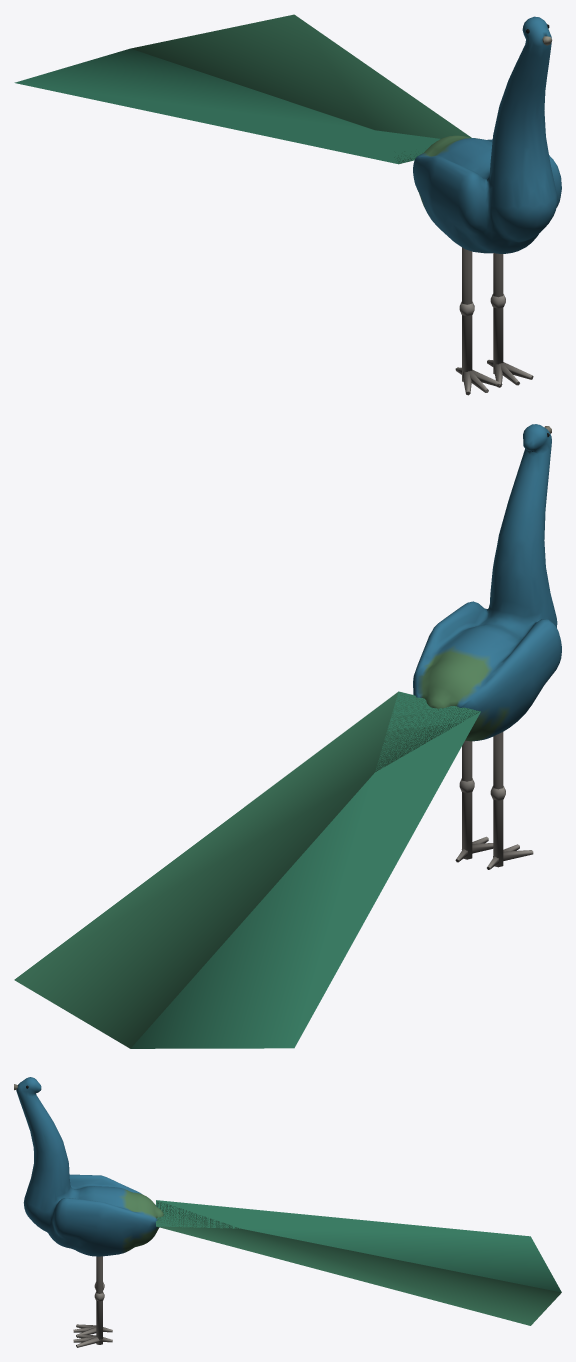
Rendered from pfau.glb.
The picture shows the model from 3 angles, top to bottom: view 1: azimuth 30°, elevation 25°; view 2: azimuth 150°, elevation 25°; view 3: azimuth 270°, elevation 25°; orthographic projection. The views are drawn at different scales.
Visible parts, largest first — view 1: lack; view 2: lack; view 3: lack.
Part boxes in pixels (bbox=[...]): lack: bbox=[14, 14, 561, 395]; lack: bbox=[14, 424, 561, 1048]; lack: bbox=[14, 1077, 561, 1347].
Size of the model in its own units: 0.68 by 0.9203 by 1.75.
